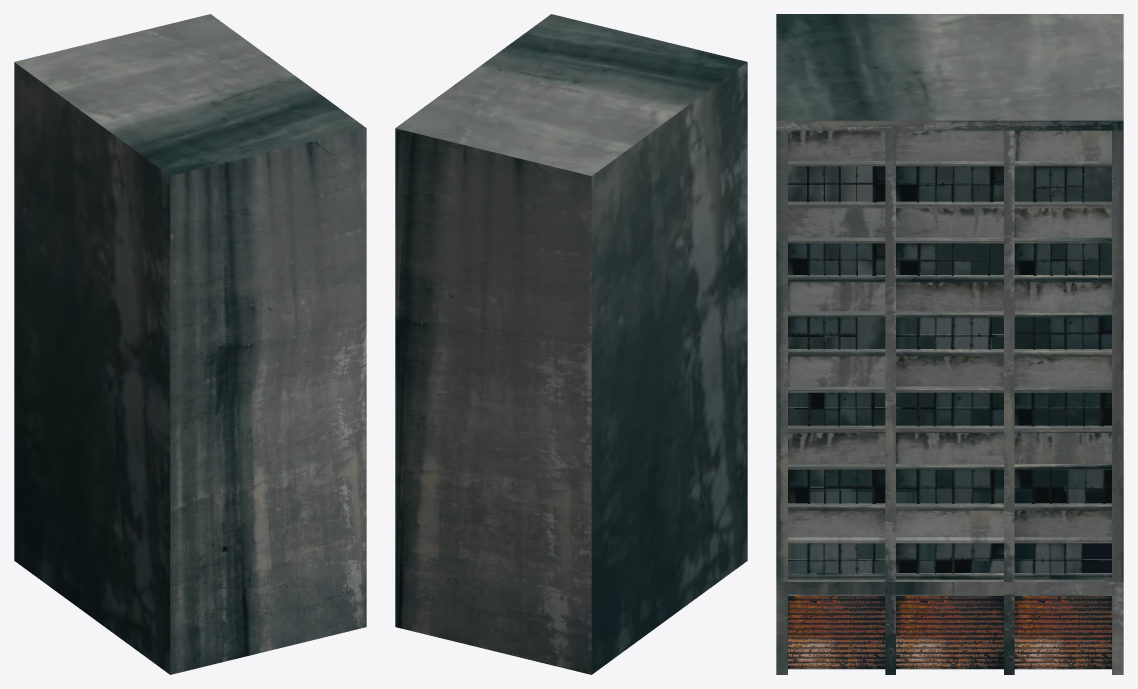
File: abandoned-building.walls-v1.lod0.glb
3 renders of one model, left to right at view 1: azimuth 30°, elevation 25°; view 2: azimuth 150°, elevation 25°; view 3: azimuth 270°, elevation 25°, orthographic. The views are drawn at different scales.
Parts seen in each view (by area): view 1: Cube_Material.002_0; view 2: Cube_Material.002_0; view 3: Cube_Material.002_0, 1_Door1_0.
Part boxes in pixels (<box>): Cube_Material.002_0: <box>14,14,366,674</box>; Cube_Material.002_0: <box>395,14,747,674</box>; Cube_Material.002_0: <box>776,14,1123,674</box>; 1_Door1_0: <box>788,596,1111,668</box>.
Size of the model in its own units: 5.36 by 13 by 7.37.
Materials: 2 (2 with a texture image).
